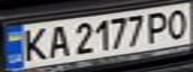1: (90, 16, 112, 52)
2: (72, 19, 96, 56)
7: (124, 11, 148, 47), (109, 15, 130, 49)
A: (42, 22, 72, 60)
K: (15, 25, 51, 62)
O: (163, 7, 193, 39)
P: (142, 9, 175, 44)
